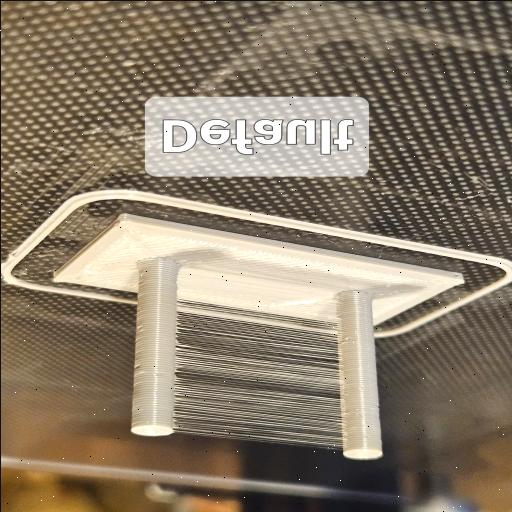stringing: (181, 300, 341, 445)
